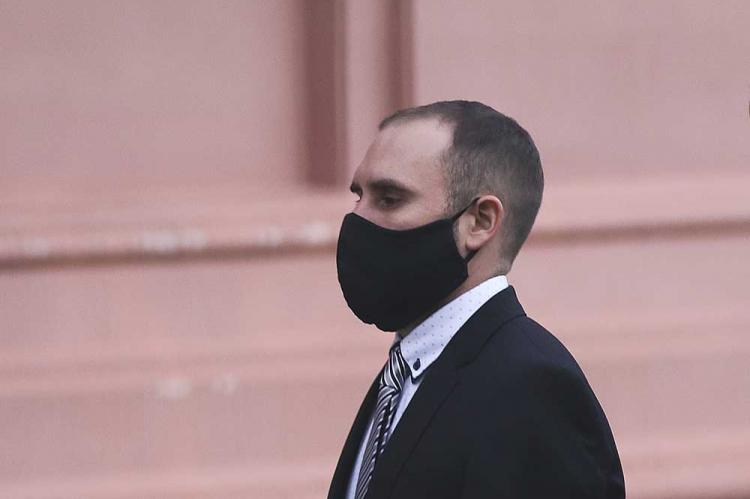barbijo: (331, 200, 479, 331)
